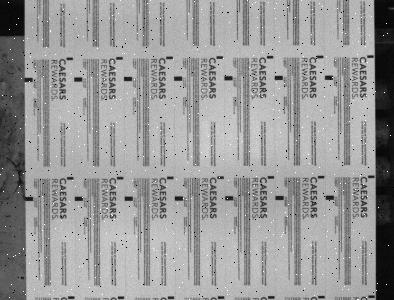backgroundclutter: (20, 276, 24, 281)
qblock: (124, 196, 133, 201), (225, 196, 234, 201), (124, 77, 132, 82), (325, 75, 333, 80), (74, 77, 82, 82), (175, 196, 183, 201), (224, 76, 233, 80), (274, 76, 283, 80), (174, 77, 183, 81), (275, 196, 284, 200), (325, 196, 334, 200), (75, 197, 83, 201), (25, 78, 33, 82), (25, 197, 33, 201)
smallqblock: (166, 56, 173, 60), (67, 176, 74, 180), (268, 295, 275, 299), (117, 176, 123, 180), (66, 58, 73, 61), (367, 55, 374, 58), (167, 176, 174, 179), (317, 176, 324, 179), (217, 176, 224, 179), (368, 175, 375, 178), (68, 296, 75, 299), (168, 296, 175, 299), (218, 296, 225, 299), (318, 295, 325, 298), (368, 295, 375, 298), (116, 57, 123, 60), (317, 56, 324, 59), (267, 56, 273, 59), (217, 56, 223, 59), (268, 176, 274, 179), (118, 296, 124, 299)
